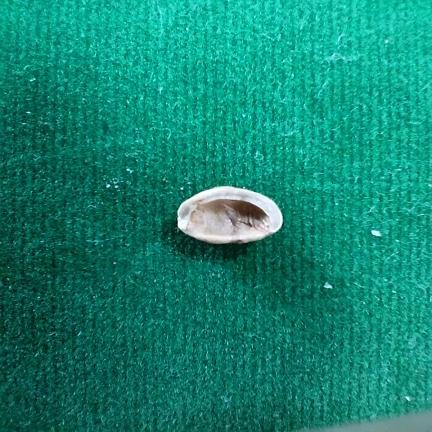shell: (177, 186, 283, 244)
